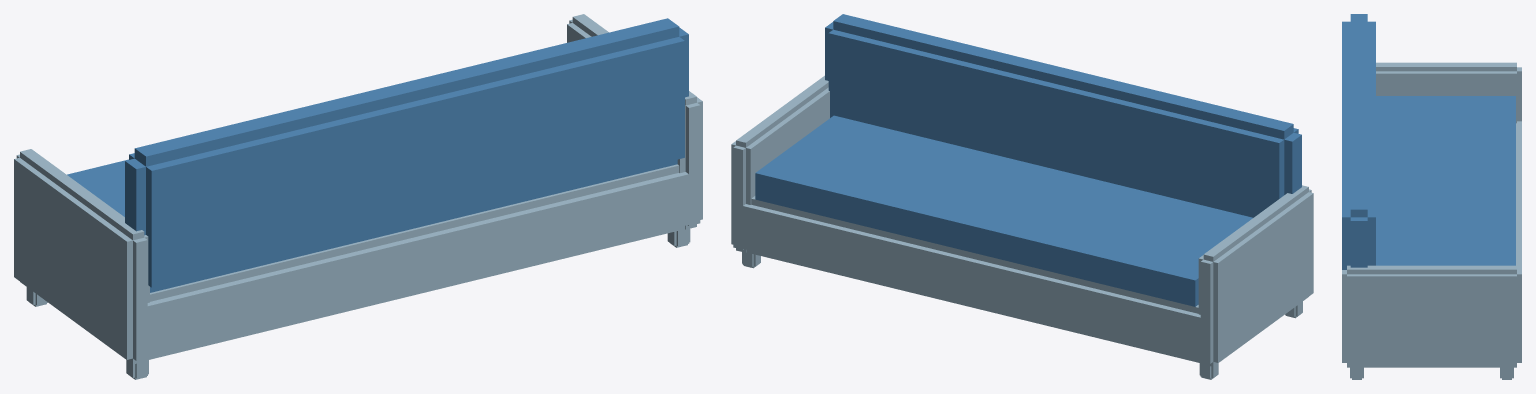
File: glass_sofa_v0.glb
3 renders of one model, left to right at view 1: azimuth 30°, elevation 25°; view 2: azimuth 150°, elevation 25°; view 3: azimuth 270°, elevation 25°, orthographic. The views are drawn at different scales.
Visible parts, largest first — view 1: glass_sofa_v0; view 2: glass_sofa_v0; view 3: glass_sofa_v0.
Part boxes in pixels (box(x1,y1,x2,y2)): glass_sofa_v0: box(14, 14, 702, 379); glass_sofa_v0: box(731, 14, 1313, 379); glass_sofa_v0: box(1342, 14, 1521, 379).
Size of the model in its own units: 2.5 by 0.92 by 0.9.
